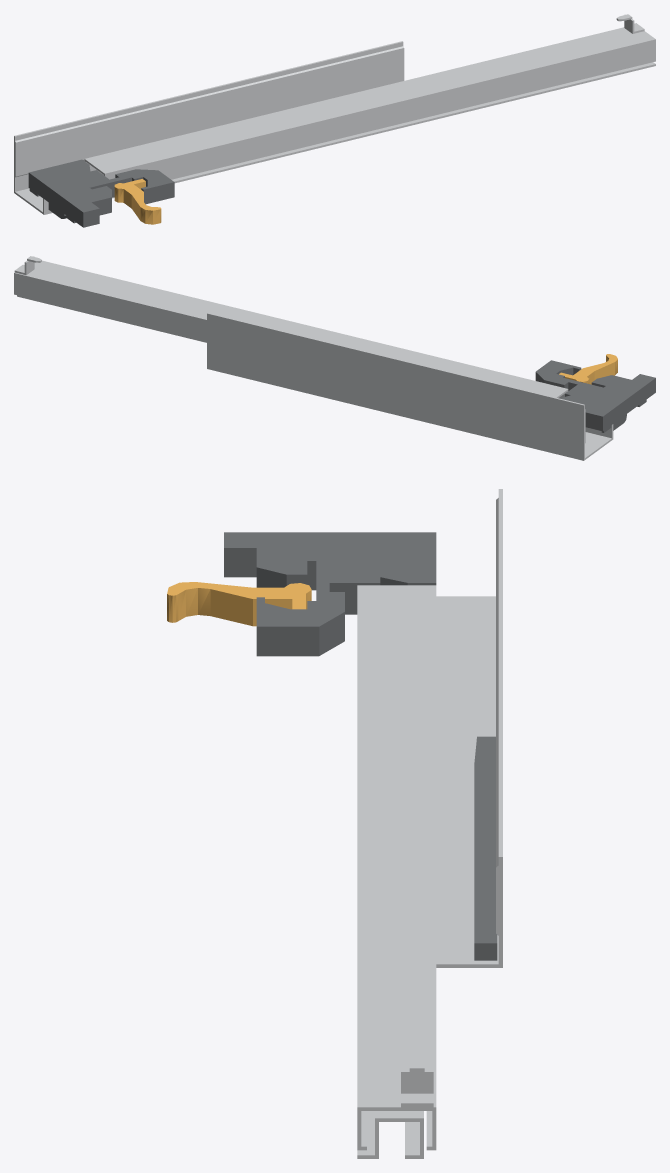
The picture shows the model from 3 angles, top to bottom: view 1: azimuth 30°, elevation 25°; view 2: azimuth 150°, elevation 25°; view 3: azimuth 270°, elevation 25°; orthographic projection. The views are drawn at different scales.
Visible parts, largest first — view 1: 2845bdf80acd; view 2: 2845bdf80acd; view 3: 2845bdf80acd.
Boxes of the visible parts, box(x1,y1,x2,y2) form: 2845bdf80acd: box(14, 14, 655, 227); 2845bdf80acd: box(14, 256, 655, 460); 2845bdf80acd: box(167, 489, 502, 1158).
Bounding box in the file's own units: 500 × 46 × 123.
